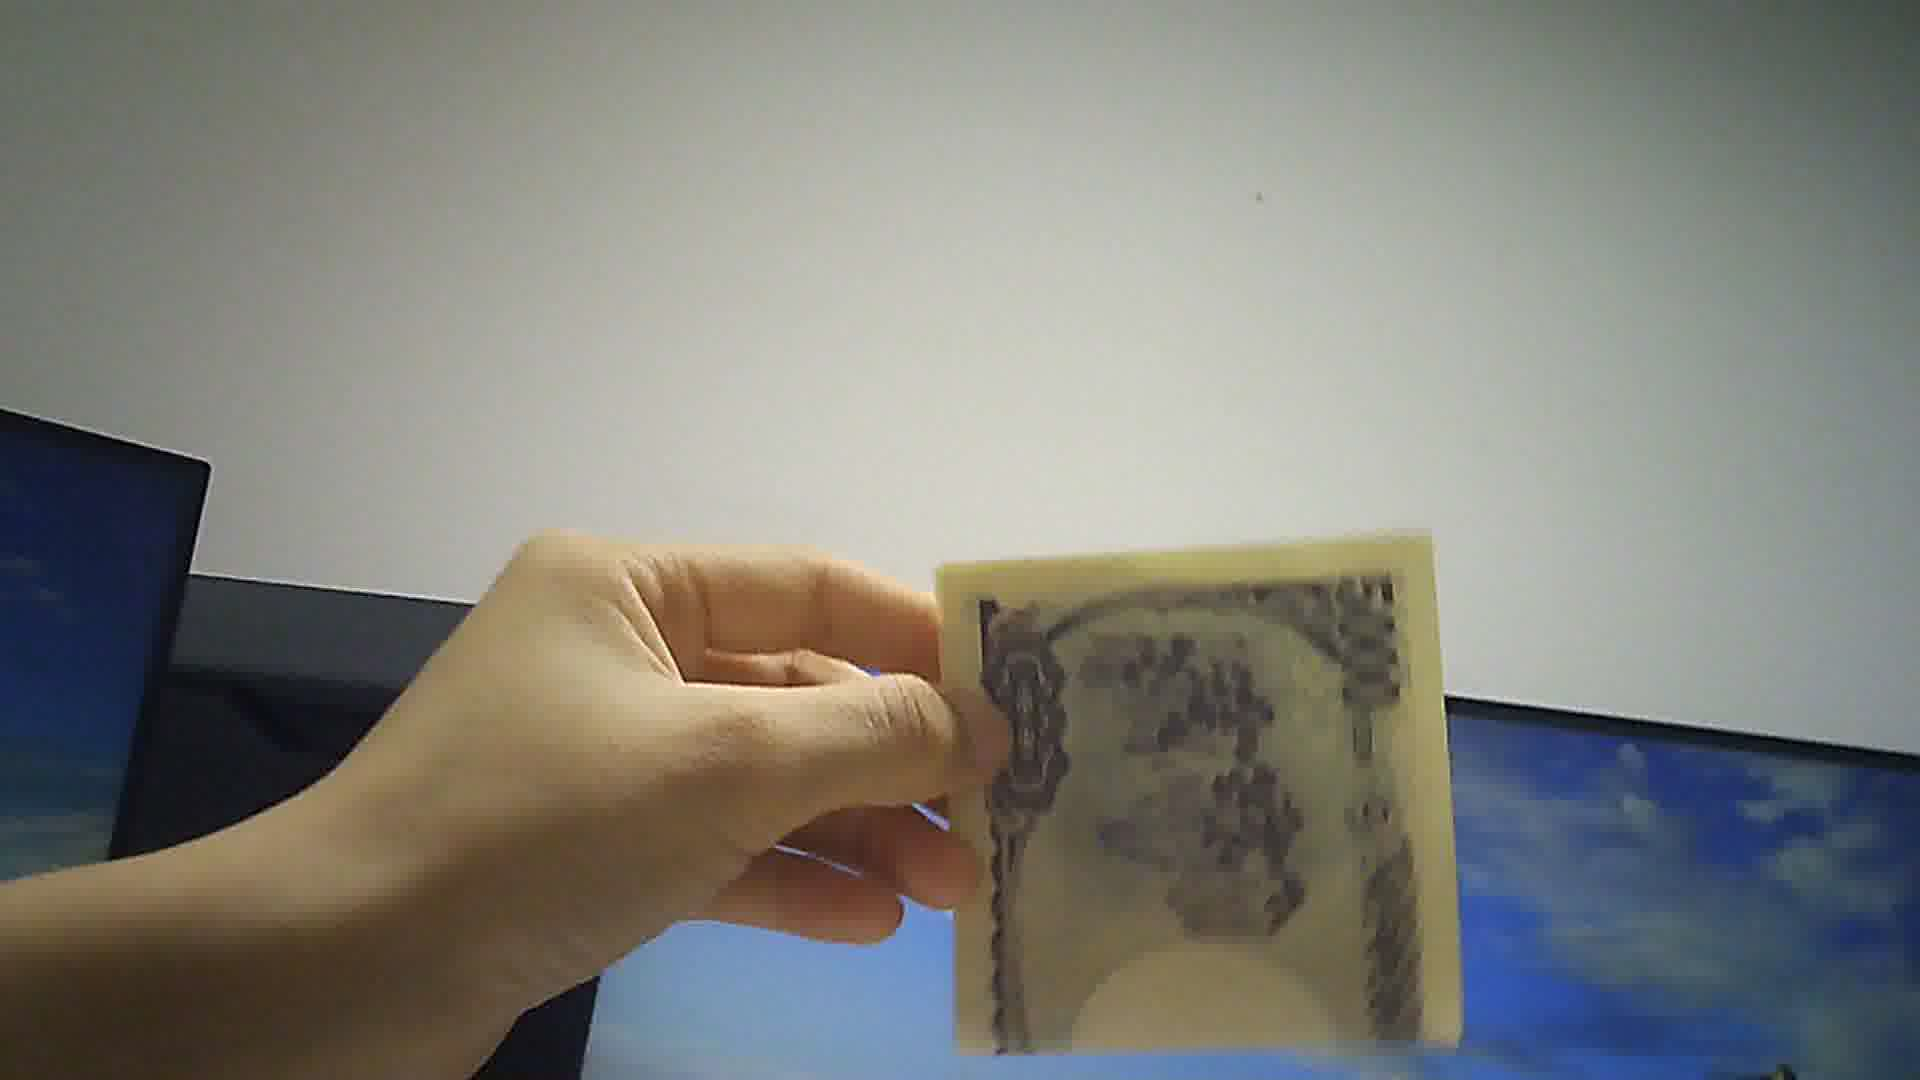5,000 Yen: (934, 543, 1472, 1056)
